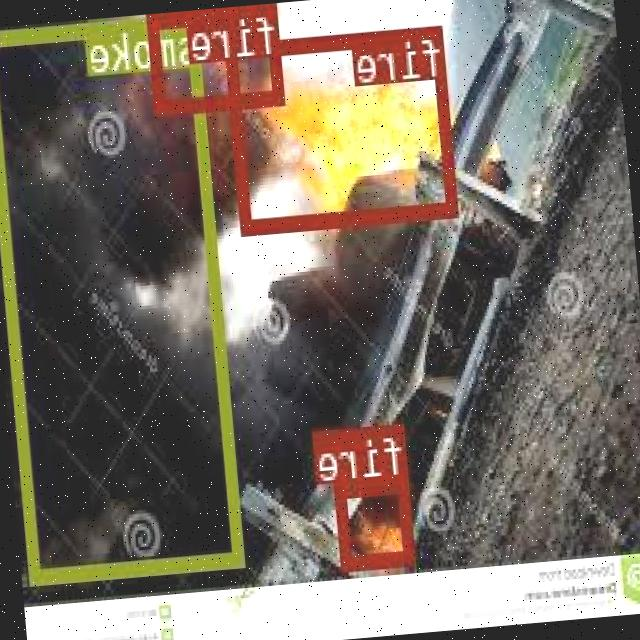fire: (227, 24, 459, 232), (150, 2, 287, 110), (336, 475, 417, 569)
smoke: (0, 10, 246, 582)
